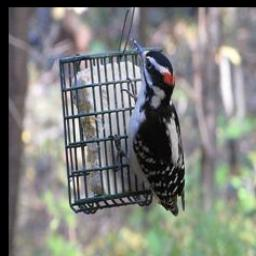Woodpecker: (110, 36, 186, 217)
